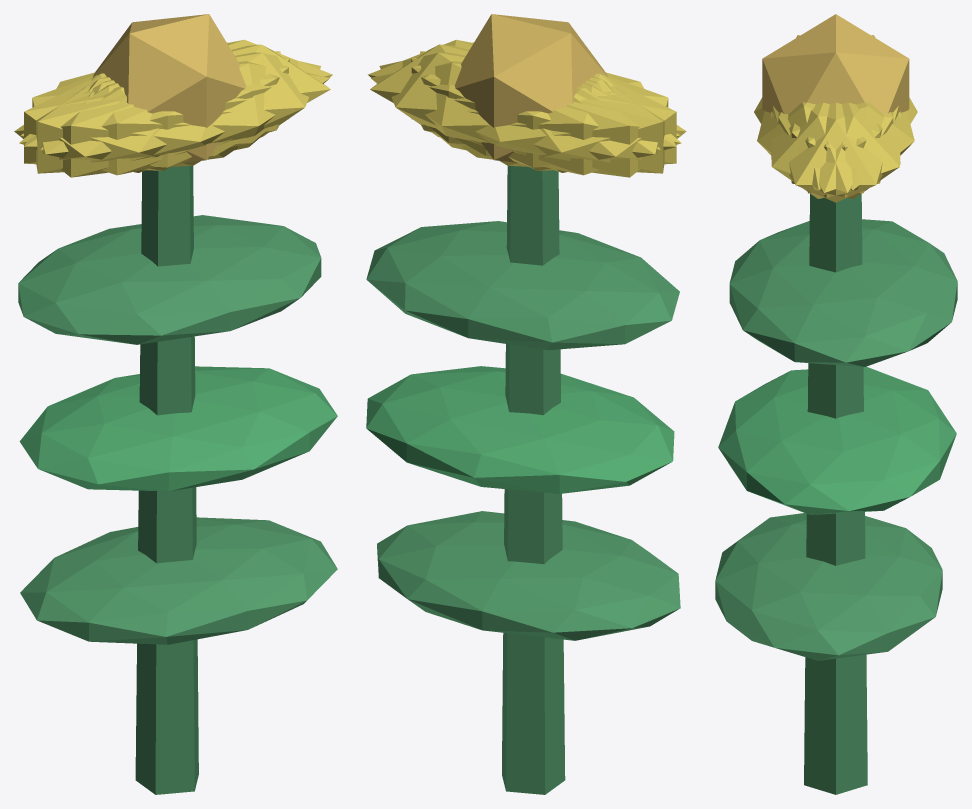
File: sphagneticola-trilobata.glb
3 renders of one model, left to right at view 1: azimuth 30°, elevation 25°; view 2: azimuth 150°, elevation 25°; view 3: azimuth 270°, elevation 25°, orthographic.
Parts seen in each view (by area): view 1: leaf1, leaf0, leaf2, stem, center, petal1, petal6, petal2, petal5, petal7, petal0, petal4 (+2 smaller); view 2: leaf2, leaf1, leaf0, stem, center, petal8, petal3, petal7, petal4, petal2, petal0, petal5 (+2 smaller); view 3: leaf1, leaf2, leaf0, stem, center, petal0, petal4, petal5, petal8, petal1.
Part boxes in pixels (x1,y1,x2,y2): leaf1: (19, 366, 337, 491); leaf0: (20, 517, 337, 644); leaf2: (18, 215, 321, 344); stem: (135, 166, 198, 794); center: (92, 14, 245, 162); petal1: (19, 61, 329, 175); petal6: (14, 75, 239, 177); petal2: (36, 51, 280, 173); petal5: (40, 52, 321, 167); petal7: (24, 58, 289, 170); petal0: (92, 44, 330, 156); petal4: (20, 39, 332, 147); leaf2: (366, 221, 679, 350); leaf1: (366, 366, 674, 493); leaf0: (377, 511, 680, 640); stem: (502, 166, 565, 794); center: (455, 14, 607, 162); petal8: (371, 61, 681, 175); petal3: (461, 75, 686, 177); petal7: (420, 51, 664, 173); petal4: (379, 52, 660, 167); petal2: (411, 58, 676, 170); petal0: (370, 44, 608, 156); petal5: (368, 39, 679, 146); leaf1: (718, 366, 956, 514); leaf2: (729, 219, 957, 366); leaf0: (715, 513, 942, 660); stem: (804, 193, 867, 794); center: (762, 14, 909, 114); petal0: (773, 102, 898, 202); petal4: (778, 102, 900, 198); petal5: (771, 102, 893, 198); petal8: (789, 102, 914, 190); petal1: (757, 102, 882, 190).
Size of the model in its own units: 0.1452 by 0.3439 by 0.101.
